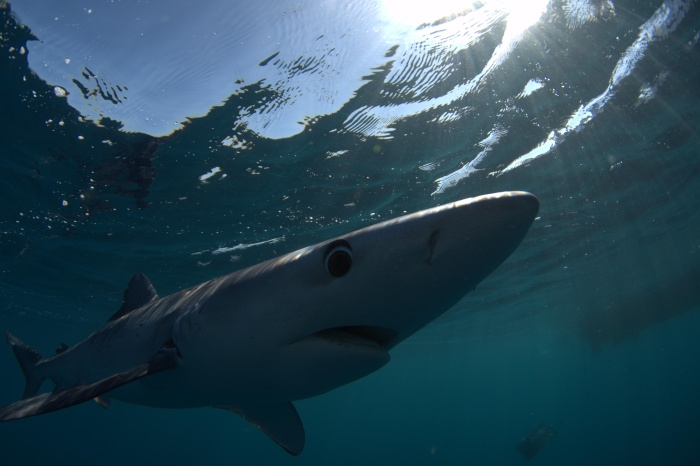Azul: (1, 158, 565, 465)
